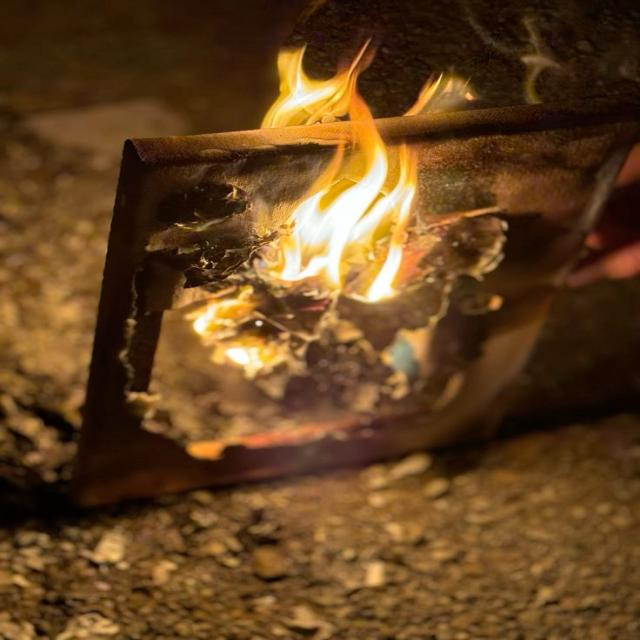fire: (280, 127, 416, 301), (259, 40, 369, 131), (191, 296, 261, 367)
